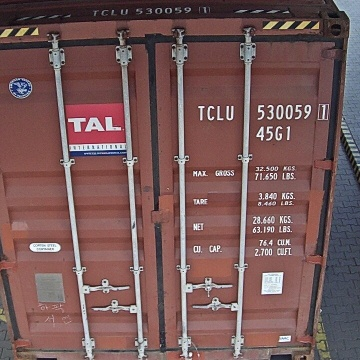serial_id: (198, 103, 328, 120)
